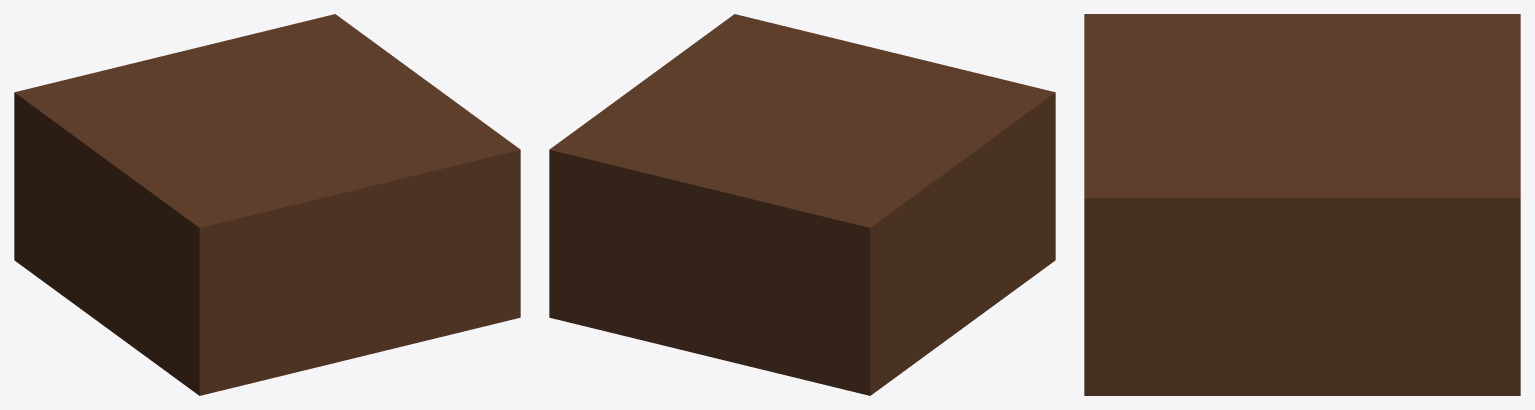
The model's file is Falaise1.fbx.
The picture shows the model from 3 angles, left to right: view 1: azimuth 30°, elevation 25°; view 2: azimuth 150°, elevation 25°; view 3: azimuth 270°, elevation 25°; orthographic projection. The views are drawn at different scales.
Parts seen in each view (by area): view 1: Falaise_.001; view 2: Falaise_.001; view 3: Falaise_.001.
Part boxes in pixels (left/top/right/bottom): Falaise_.001: left=14, top=14, right=520, bottom=395; Falaise_.001: left=549, top=14, right=1055, bottom=395; Falaise_.001: left=1084, top=14, right=1520, bottom=395.
Bounding box in the file's own units: 500 × 250 × 500.
